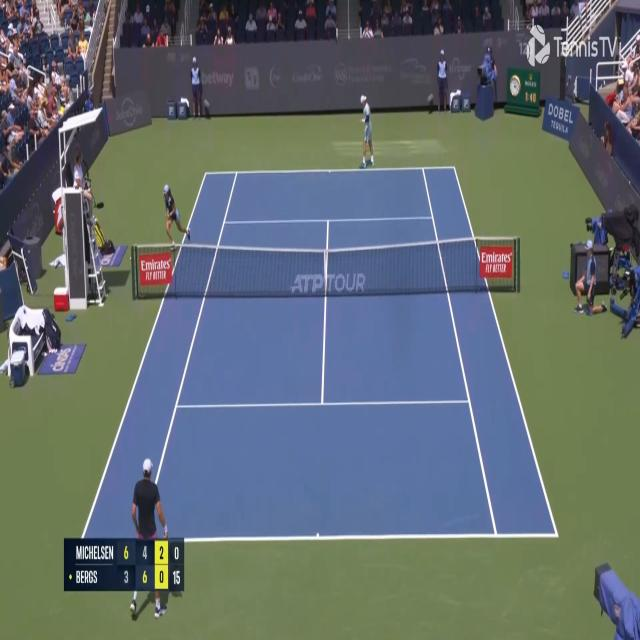tennis-player: (126, 455, 169, 628), (358, 92, 376, 170)
